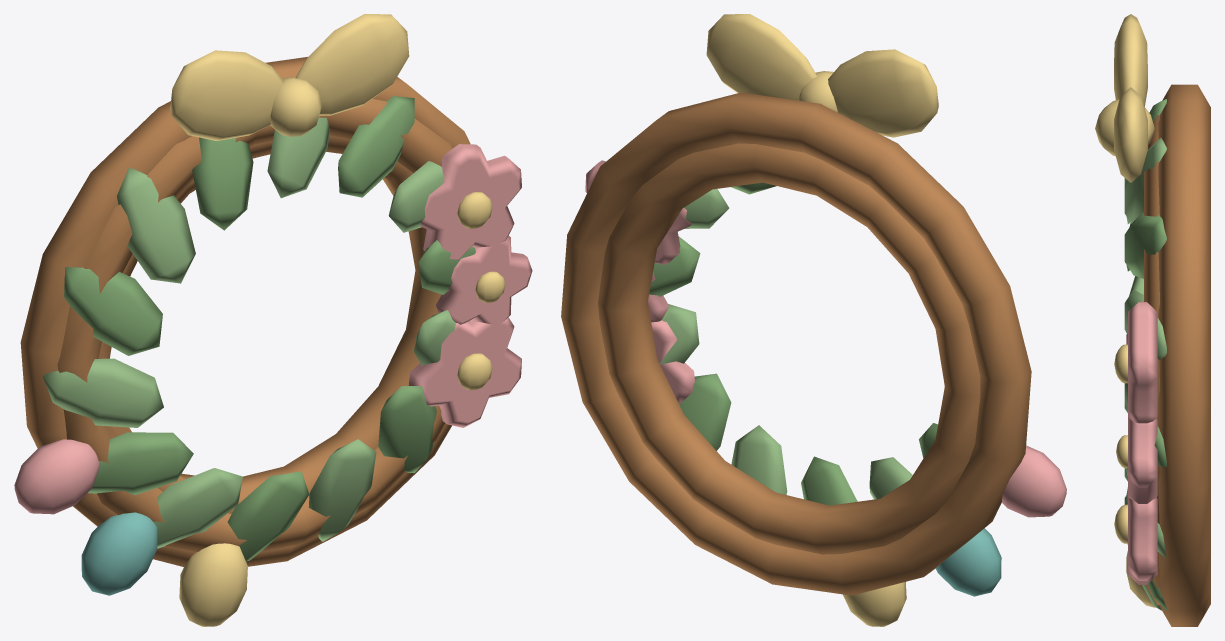
Rendered from egg_bow_wreath.glb.
3 views of the same model, side by side, from view 1: azimuth 30°, elevation 25°; view 2: azimuth 150°, elevation 25°; view 3: azimuth 270°, elevation 25° (orthographic). The views are drawn at different scales.
Parts seen in each view (by area): view 1: egg_bow_wreath_mesh; view 2: egg_bow_wreath_mesh; view 3: egg_bow_wreath_mesh.
Part boxes in pixels (bbox=[...]): egg_bow_wreath_mesh: bbox=[14, 14, 532, 626]; egg_bow_wreath_mesh: bbox=[561, 14, 1066, 626]; egg_bow_wreath_mesh: bbox=[1095, 14, 1210, 626].
Bounding box in the file's own units: 0.4863 × 0.5367 × 0.097.
